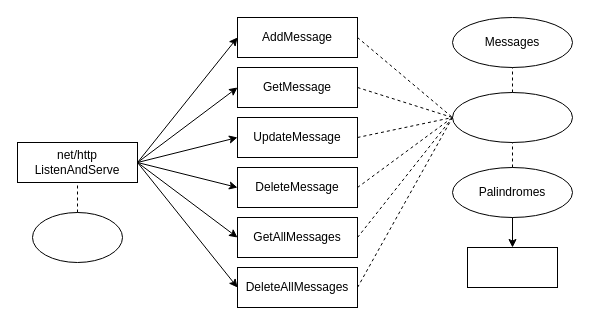
The diagram is 590 pixels wide and 325 high, and some of its shapes have lost their labels. Here are the shapes that lost their labels. From the top down, the centre of each, then its label:
At (x=512, y=117): "SharedState".
At (x=77, y=237): "gorilla/mux".
At (x=512, y=267): "doWork".
